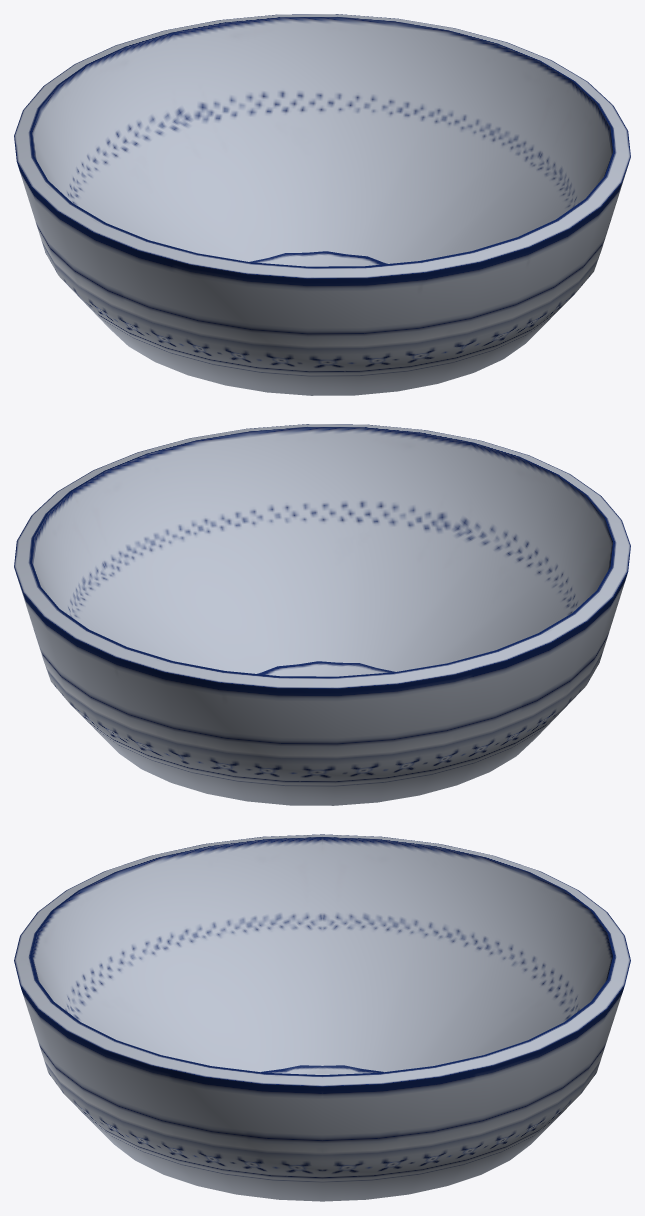
File: Decor_Bowl.fbx
3 renders of one model, top to bottom at view 1: azimuth 30°, elevation 25°; view 2: azimuth 150°, elevation 25°; view 3: azimuth 270°, elevation 25°, orthographic. The views are drawn at different scales.
Visible parts, largest first — view 1: Smooth_Bowl4; view 2: Smooth_Bowl4; view 3: Smooth_Bowl4.
Part boxes in pixels (<box>): Smooth_Bowl4: <box>14,14,630,395</box>; Smooth_Bowl4: <box>14,424,630,805</box>; Smooth_Bowl4: <box>14,834,630,1201</box>.
Bounding box in the file's own units: 3.88 × 1.35 × 4.01.
